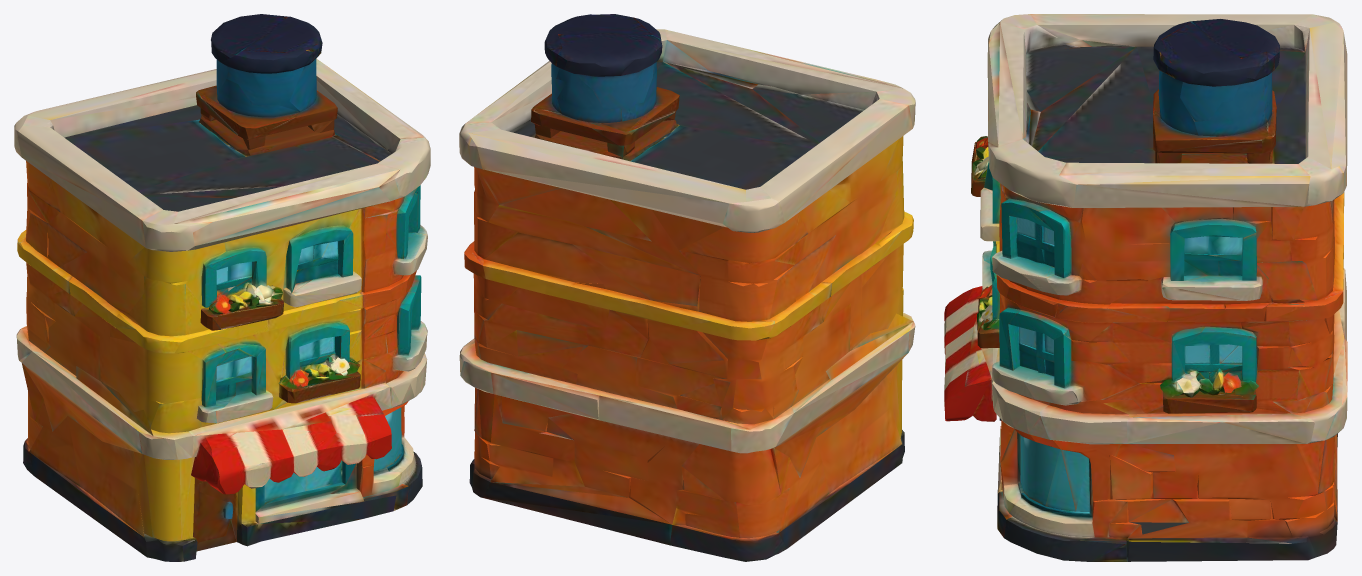
Rendered from cy-bygning.glb.
3 renders of one model, left to right at view 1: azimuth 30°, elevation 25°; view 2: azimuth 150°, elevation 25°; view 3: azimuth 270°, elevation 25°, orthographic. The views are drawn at different scales.
Size of the model in its own units: 1.49 by 1.9 by 1.47.
1 material, 1 textured.
